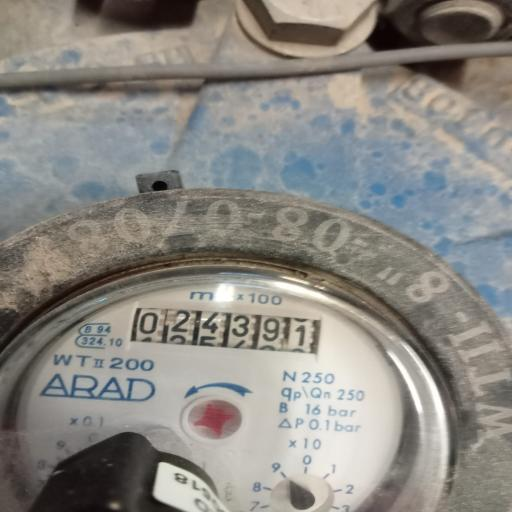0: (136, 309, 160, 335)
1: (288, 324, 312, 349)
2: (168, 310, 193, 334)
3: (228, 314, 255, 340)
4: (200, 311, 224, 337)
9: (259, 315, 284, 345)
medida: (130, 305, 323, 352)
